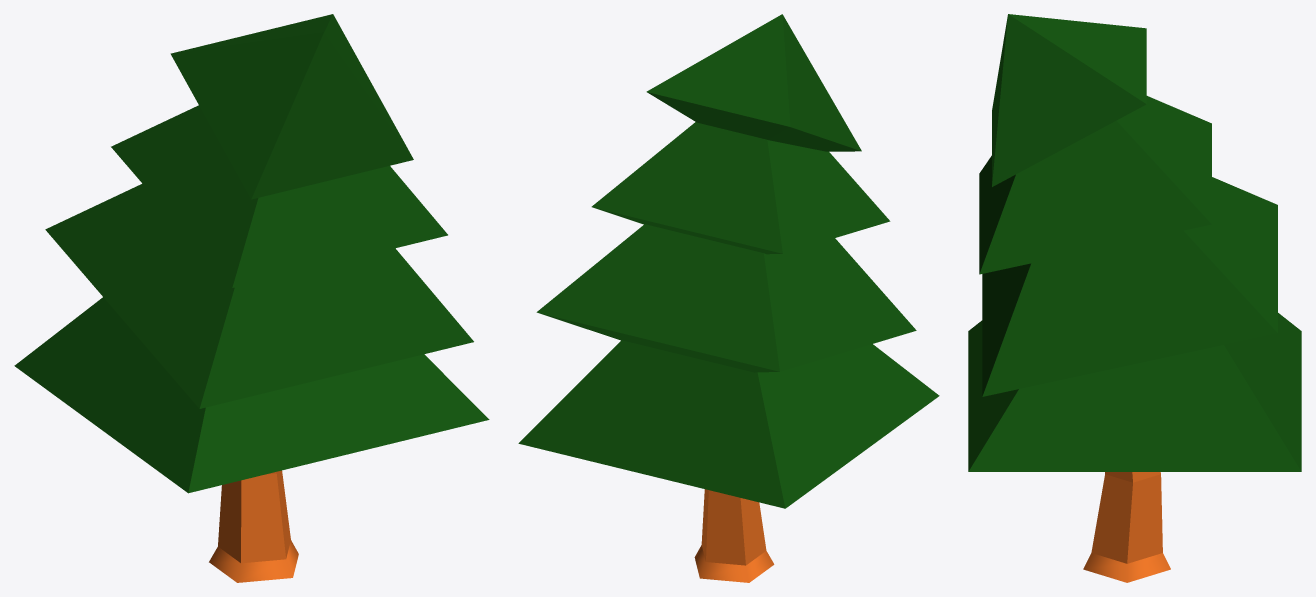
The model's file is Tree4.FBX.
3 views of the same model, side by side, from view 1: azimuth 30°, elevation 25°; view 2: azimuth 150°, elevation 25°; view 3: azimuth 270°, elevation 25° (orthographic). The views are drawn at different scales.
Visible parts, largest first — view 1: Hedra007, Hedra008, Hedra009, Hedra010, Tree4; view 2: Hedra008, Hedra007, Hedra010, Hedra009, Tree4; view 3: Hedra007, Hedra008, Hedra010, Hedra009, Tree4.
Part boxes in pixels (box(x1,y1,x2,y2)): Hedra007: box(45, 183, 473, 408); Hedra008: box(14, 297, 489, 493); Hedra009: box(170, 14, 413, 199); Hedra010: box(111, 105, 447, 287); Tree4: box(209, 470, 298, 582); Hedra008: box(518, 340, 939, 508); Hedra007: box(536, 224, 916, 372); Hedra010: box(591, 122, 890, 254); Hedra009: box(646, 14, 861, 151); Tree4: box(694, 489, 774, 582); Hedra007: box(982, 177, 1277, 396); Hedra008: box(968, 313, 1301, 471); Hedra010: box(979, 96, 1211, 274); Hedra009: box(992, 14, 1146, 186); Tree4: box(1083, 472, 1170, 582).
Size of the model in its own units: 671 by 1226 by 671.
